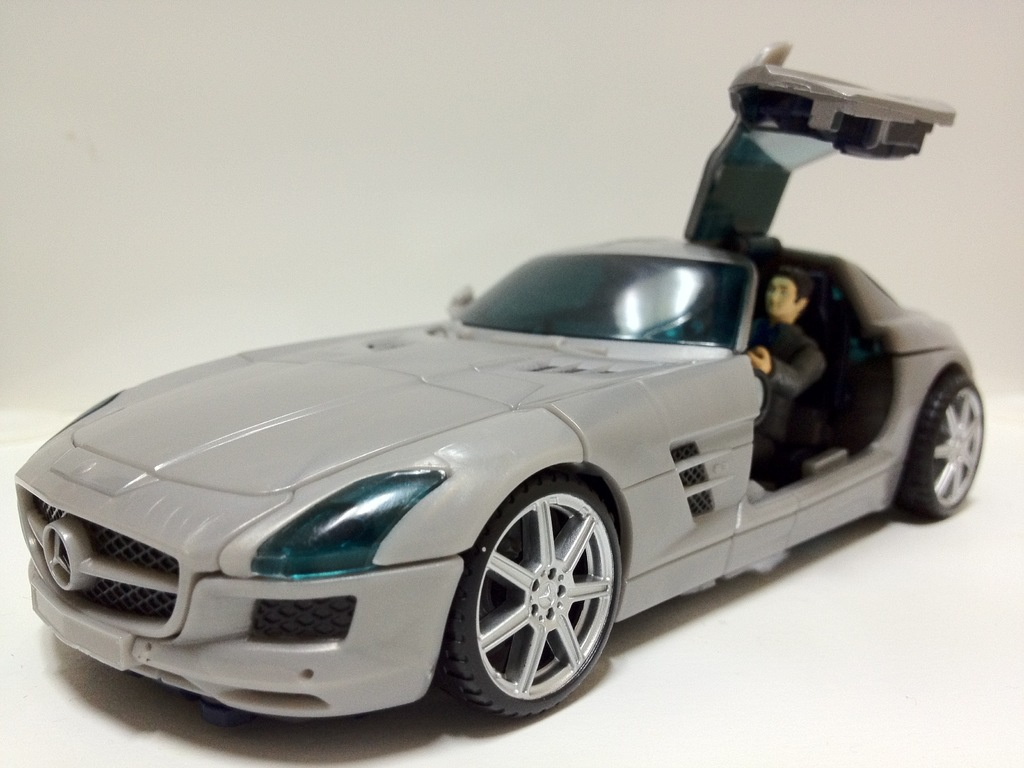person: (742, 264, 830, 486)
